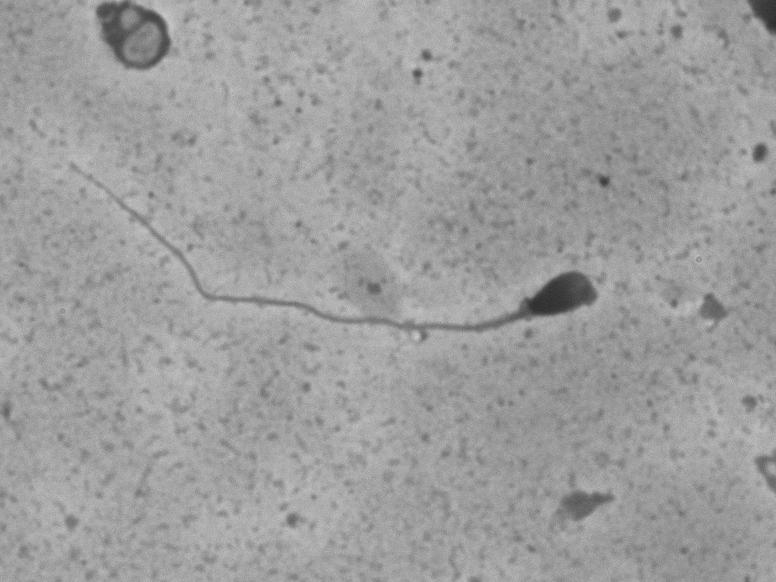Abnormal: (37, 146, 619, 381)
